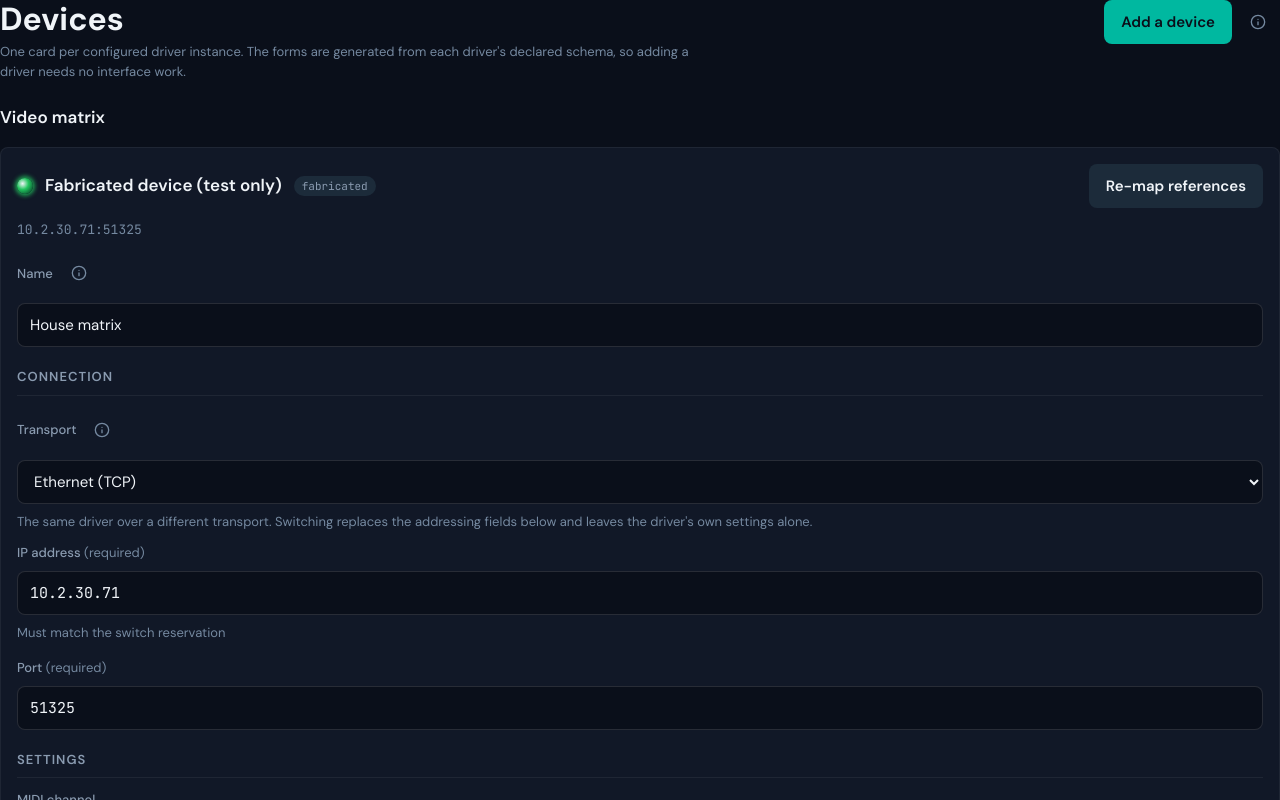
DevicesScreen › gives every field and primary action help (spec §19.1)
The width and height of the screenshot is (1280, 800).
Expected: the heading "Fabricated device (test only)" is shown, [45,173,282,199]
Step 1. Click the button "Add a device" → (1168, 22), box [1104,0,1232,44]
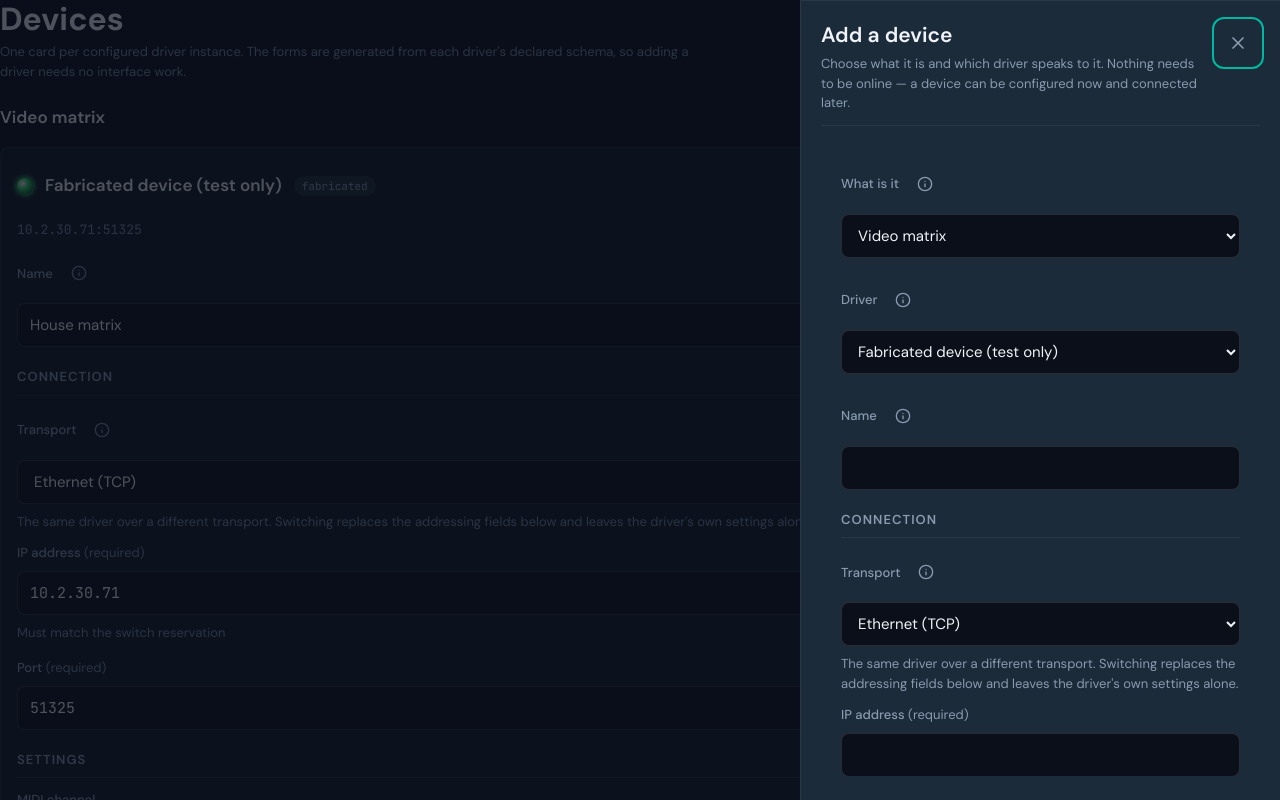
Result: the dialog "Add a device" is shown at [800,0,1279,799]
